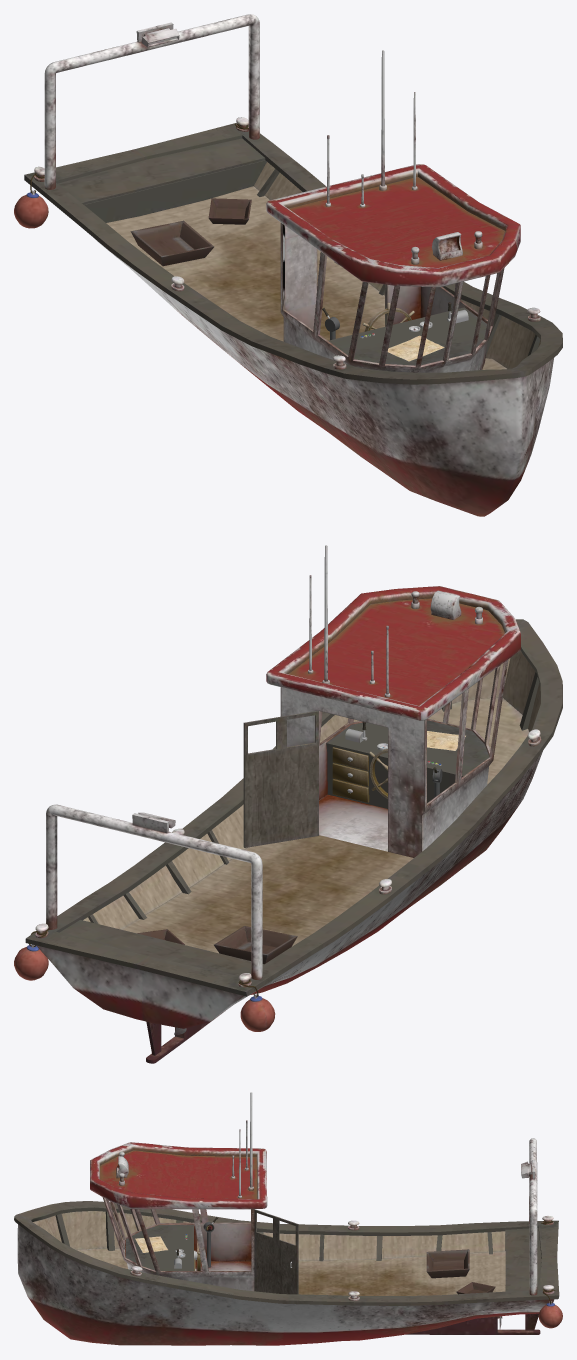
The model's file is boat_rusty.glb.
The picture shows the model from 3 angles, top to bottom: view 1: azimuth 30°, elevation 25°; view 2: azimuth 150°, elevation 25°; view 3: azimuth 270°, elevation 25°; orthographic projection. The views are drawn at different scales.
Visible parts, largest first — view 1: boat_boat_material_0, boat_cabin_boat_cabin_material_0; view 2: boat_boat_material_0, boat_cabin_boat_cabin_material_0; view 3: boat_boat_material_0, boat_cabin_boat_cabin_material_0.
Boxes of the visible parts, <box> form: boat_boat_material_0: <box>14,14,562,516</box>; boat_cabin_boat_cabin_material_0: <box>266,50,520,372</box>; boat_boat_material_0: <box>14,619,562,1063</box>; boat_cabin_boat_cabin_material_0: <box>243,545,520,857</box>; boat_boat_material_0: <box>14,1138,562,1345</box>; boat_cabin_boat_cabin_material_0: <box>90,1092,298,1294</box>.
Bounding box in the file's own units: 4.83 × 6.76 × 13.
2 materials, 2 textured.
